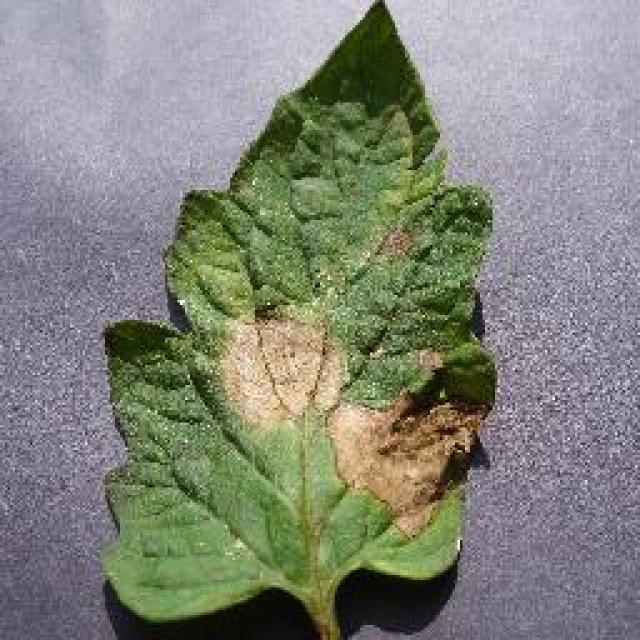Tomato Late Blight: (190, 145, 437, 513)
